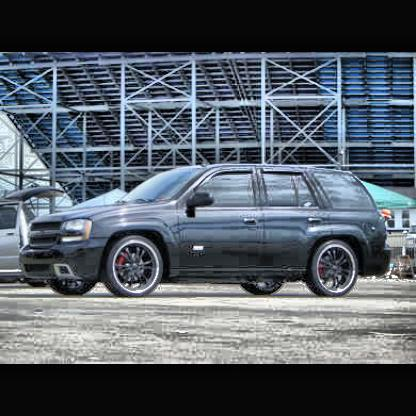Chevrolet TrailBlazer SS 2009: (20, 158, 393, 305)
